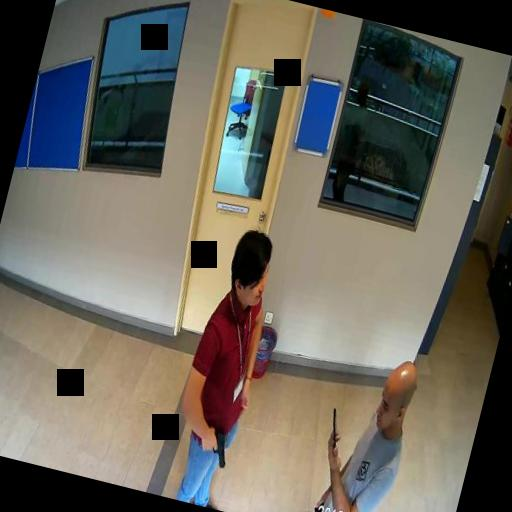Handgun: (200, 425, 232, 467)
